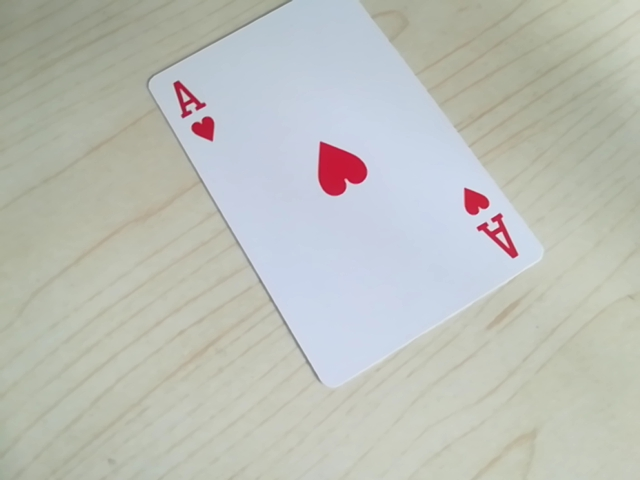hx a: (461, 182, 521, 262), (164, 77, 219, 146)
